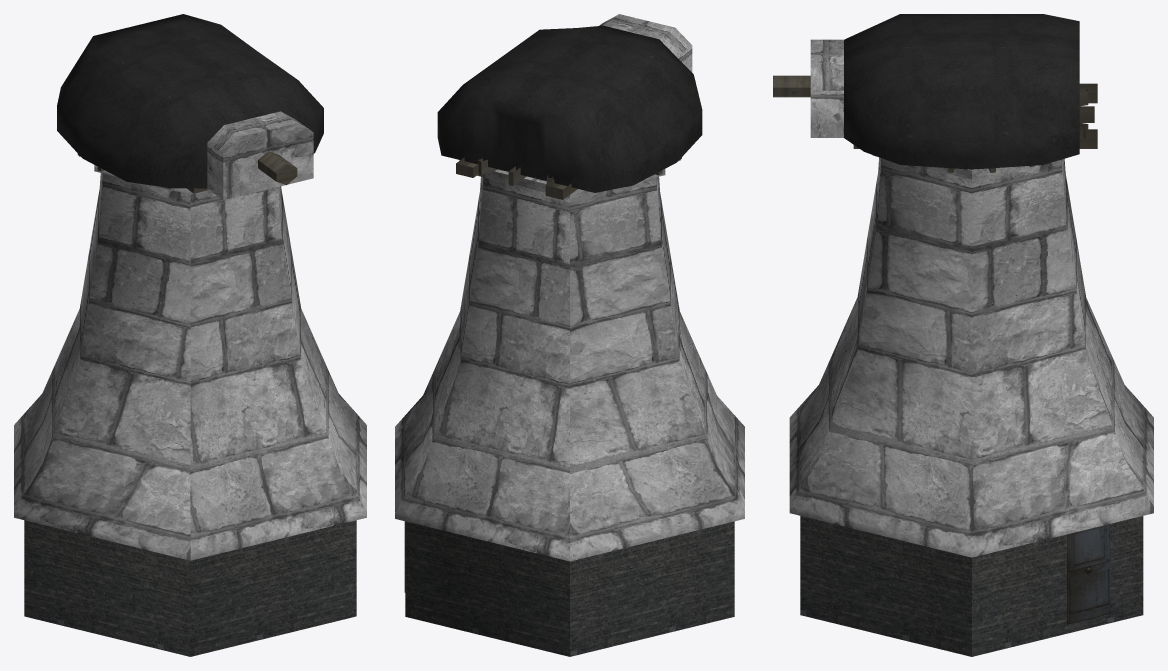
The model's file is mill_mainV2.obj.
The picture shows the model from 3 angles, left to right: view 1: azimuth 30°, elevation 25°; view 2: azimuth 150°, elevation 25°; view 3: azimuth 270°, elevation 25°; orthographic projection. The views are drawn at different scales.
Parts seen in each view (by area): view 1: Merged_mesh__03_Material5_plank_wall_big01, Merged_mesh__02_Material4_bricks01, Merged_mesh__06_Material28_tar_roof01, Merged_mesh__04_Material8_bright_planks01; view 2: Merged_mesh__03_Material5_plank_wall_big01, Merged_mesh__06_Material28_tar_roof01, Merged_mesh__02_Material4_bricks01, Merged_mesh__04_Material8_bright_planks01; view 3: Merged_mesh__03_Material5_plank_wall_big01, Merged_mesh__06_Material28_tar_roof01, Merged_mesh__02_Material4_bricks01, Merged_mesh__07_Material_door01, Merged_mesh__04_Material8_bright_planks01.
Boxes of the visible parts, box(x1,y1,x2,y2) form: Merged_mesh__03_Material5_plank_wall_big01: box(14, 111, 366, 560); Merged_mesh__02_Material4_bricks01: box(24, 520, 356, 656); Merged_mesh__06_Material28_tar_roof01: box(57, 14, 323, 188); Merged_mesh__04_Material8_bright_planks01: box(77, 151, 297, 193); Merged_mesh__03_Material5_plank_wall_big01: box(395, 14, 744, 561); Merged_mesh__06_Material28_tar_roof01: box(437, 25, 702, 192); Merged_mesh__02_Material4_bricks01: box(405, 521, 734, 656); Merged_mesh__04_Material8_bright_planks01: box(456, 157, 681, 199); Merged_mesh__03_Material5_plank_wall_big01: box(789, 39, 1153, 557); Merged_mesh__06_Material28_tar_roof01: box(844, 14, 1079, 169); Merged_mesh__02_Material4_bricks01: box(800, 516, 1143, 656); Merged_mesh__07_Material_door01: box(1067, 524, 1110, 624); Merged_mesh__04_Material8_bright_planks01: box(773, 75, 1097, 172).
Size of the model in its own units: 10.39 by 14.65 by 9.41.
5 materials, 5 textured.
